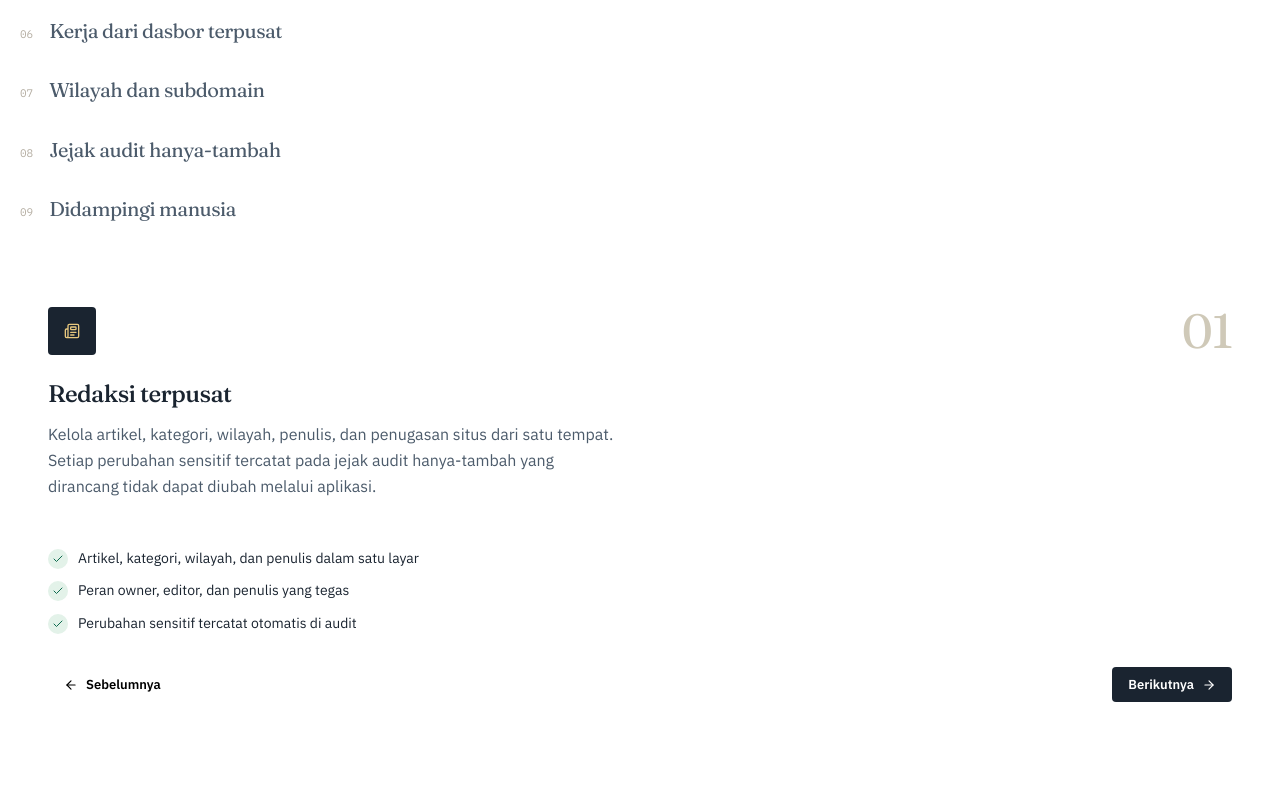
Test case: CapabilityExplorer › tombol berikutnya dan sebelumnya memutar panel
(page scrolled)
Click the button "Berikutnya" at x=1172, y=685, box [1112,667,1232,702]
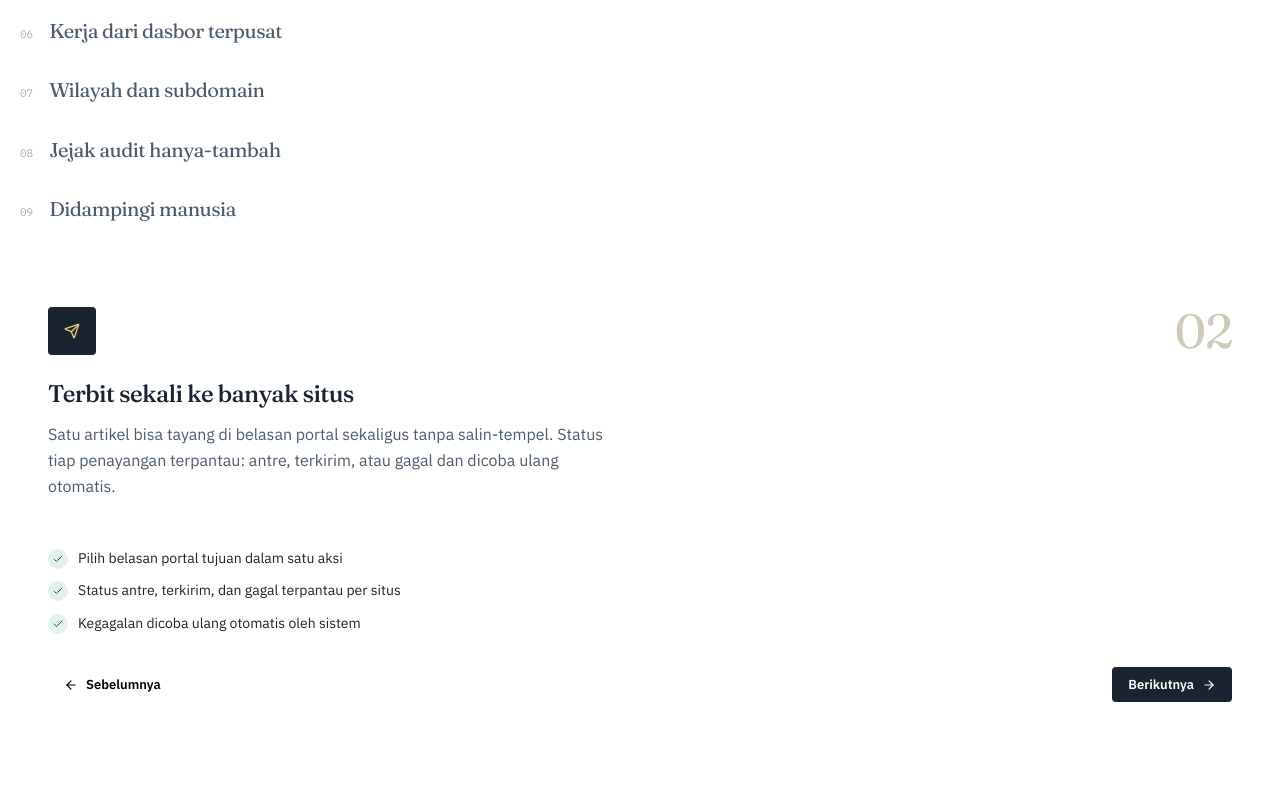
Check: the panel shows "Terbit sekali ke banyak situs", box [48,378,354,408]
Click the button "Sebelumnya" at x=112, y=685, box [48,667,177,702]
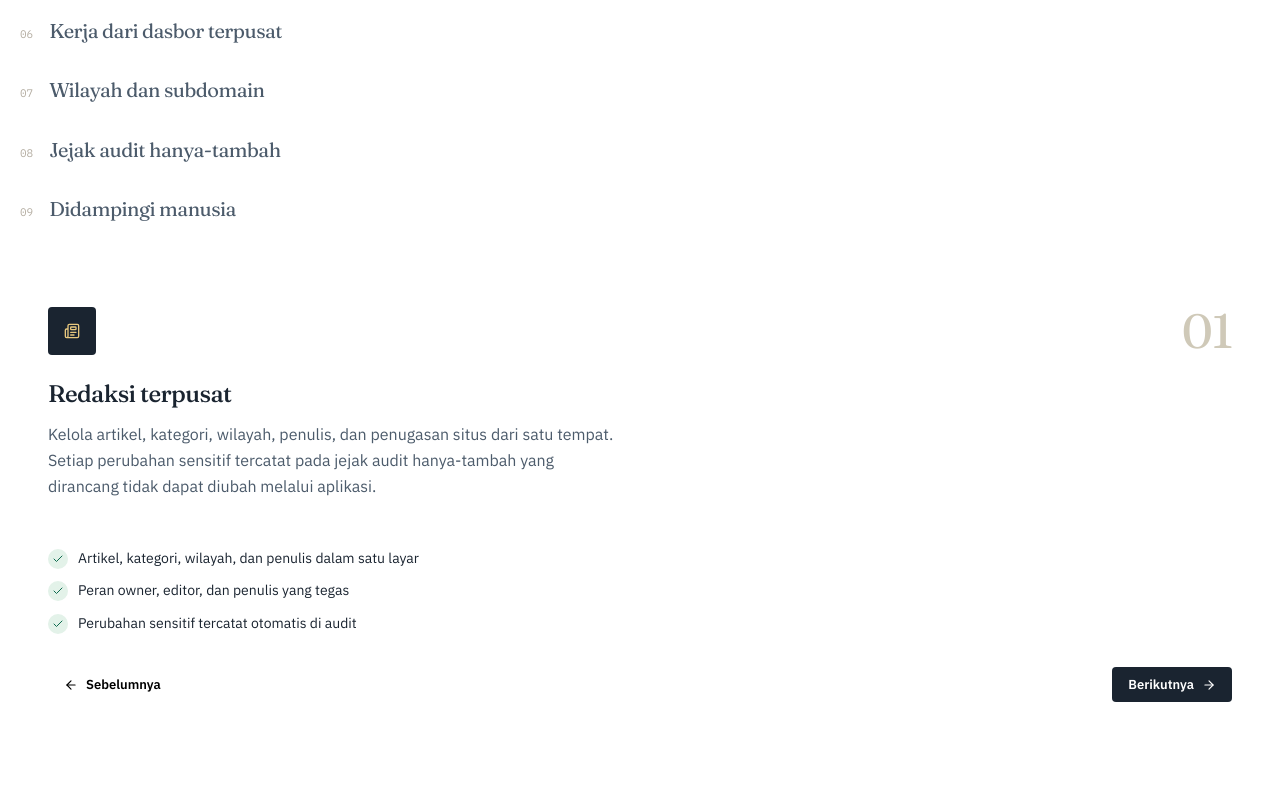
Check: the panel shows "Redaksi terpusat", box [48,378,232,408]
